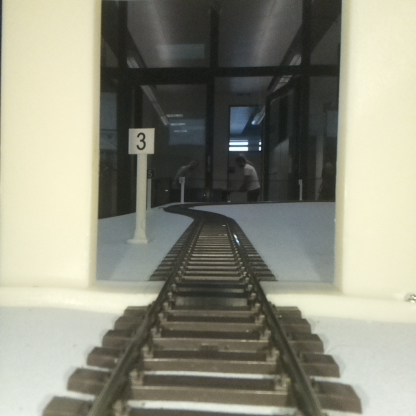white-info-3: (128, 127, 154, 241)
